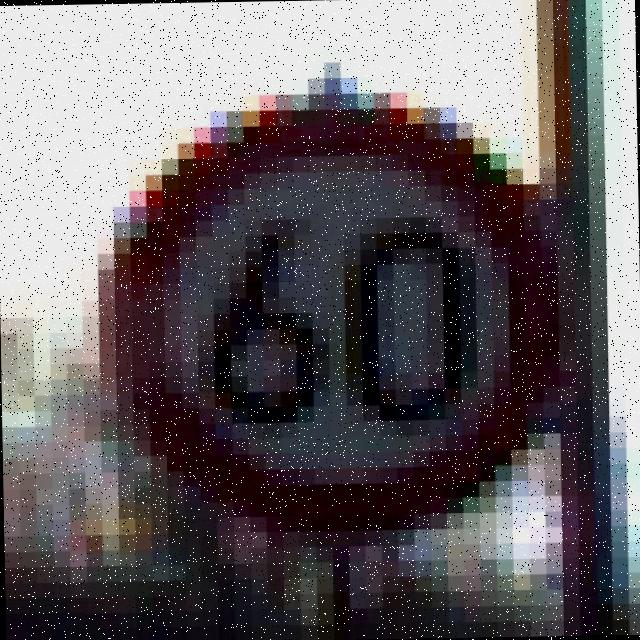Ograniczenie predkosci do 60: (103, 98, 550, 534)
